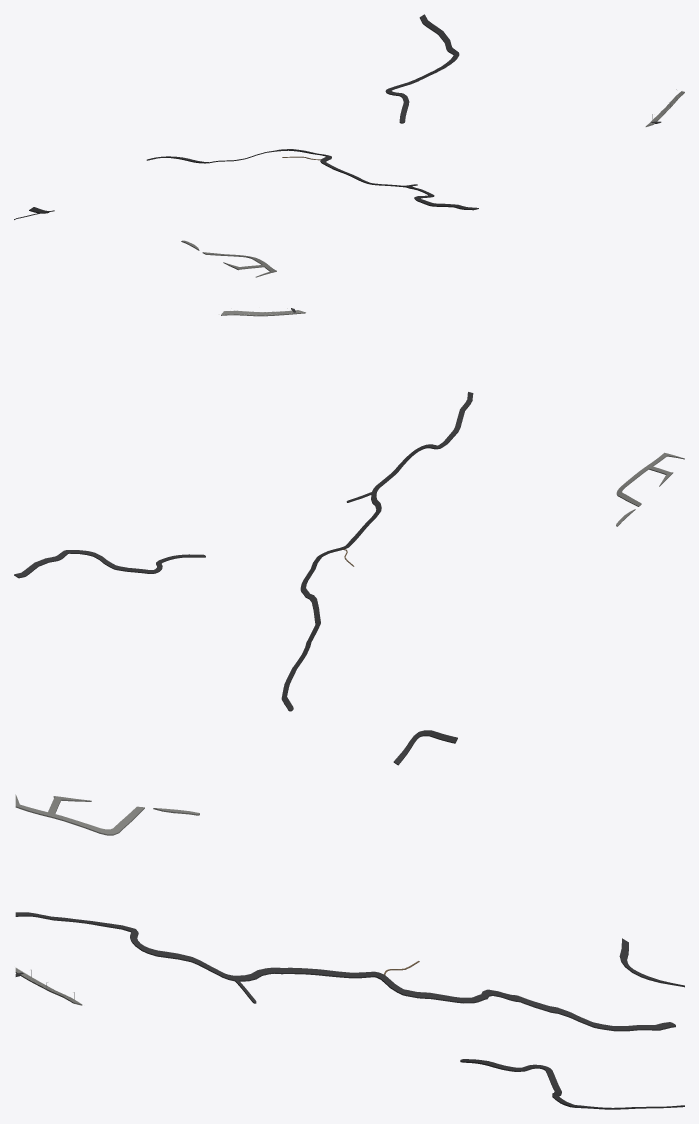
3 renders of one model, top to bottom at view 1: azimuth 30°, elevation 25°; view 2: azimuth 150°, elevation 25°; view 3: azimuth 270°, elevation 25°, orthographic. The views are drawn at different scales.
Bounding box in the file's own units: 590 × 241 × 585.
